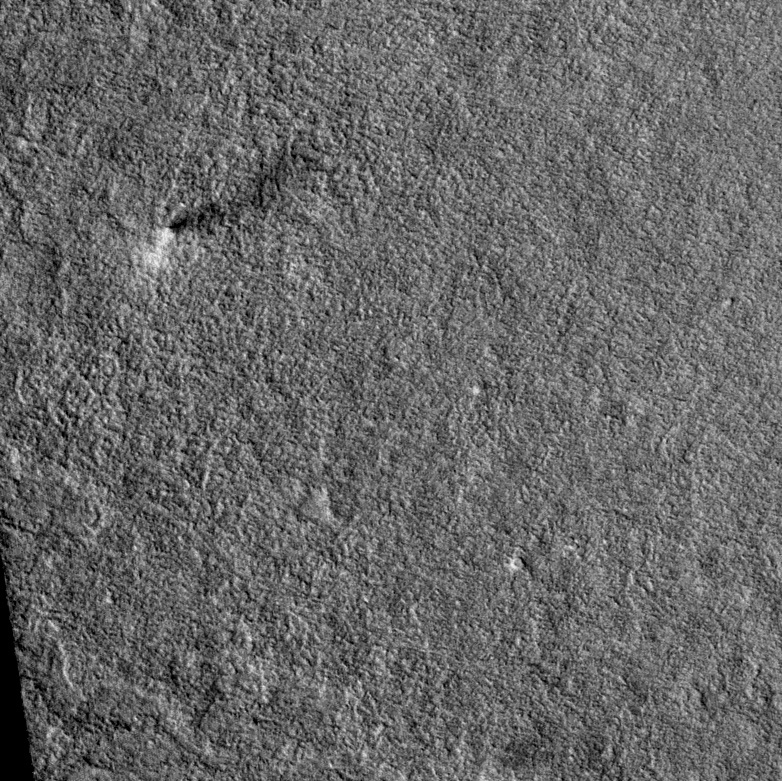dust_devil: (140, 145, 320, 271)
